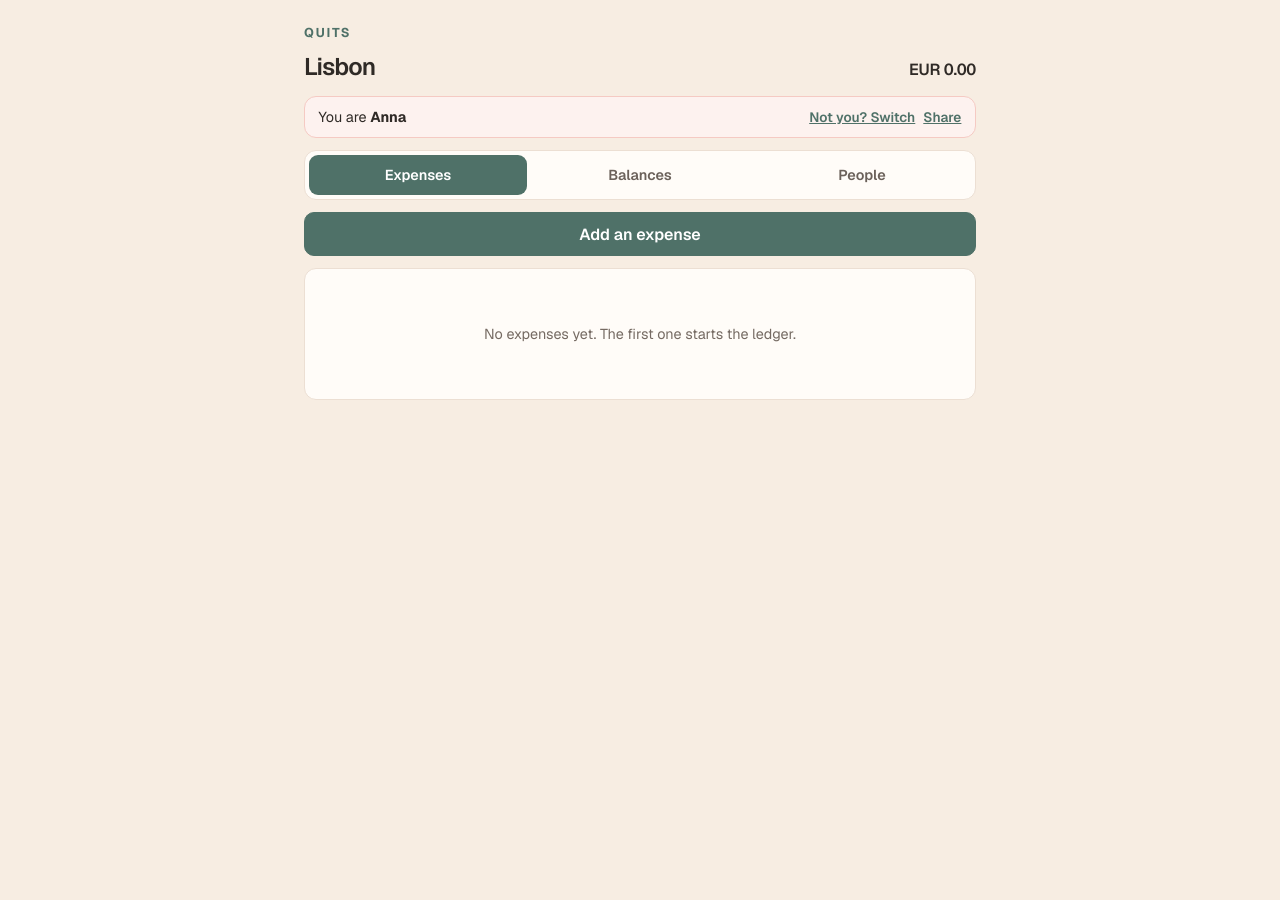
it: adding an expense — SPEC §7.10 to §7.14 › says how far over the exact amounts have gone
Click the button "Add an expense" at x=640, y=234, box [304,212,976,256]
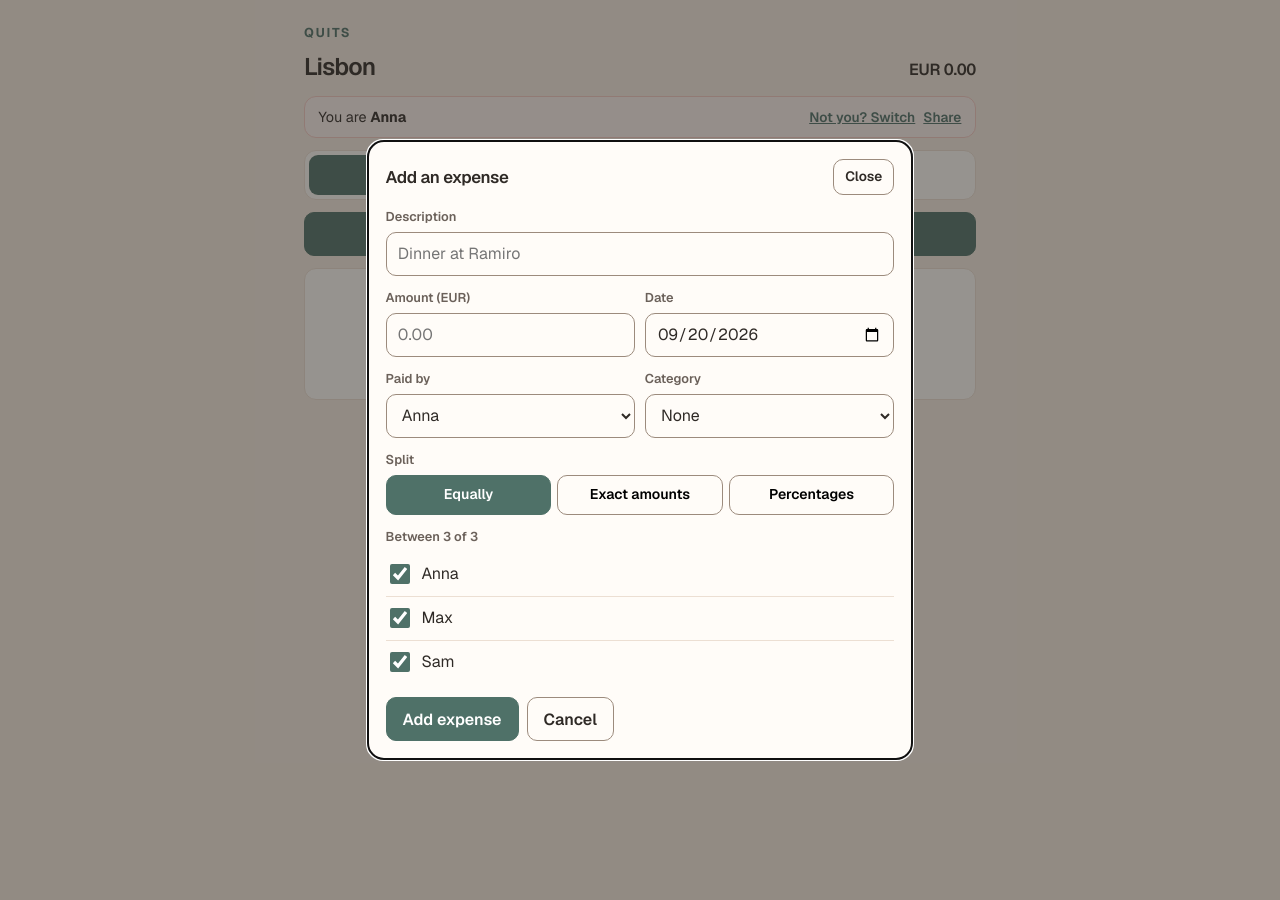
Type "10.00" into the field labelled "Amount (EUR)" at x=510, y=335, box [386,313,635,357]
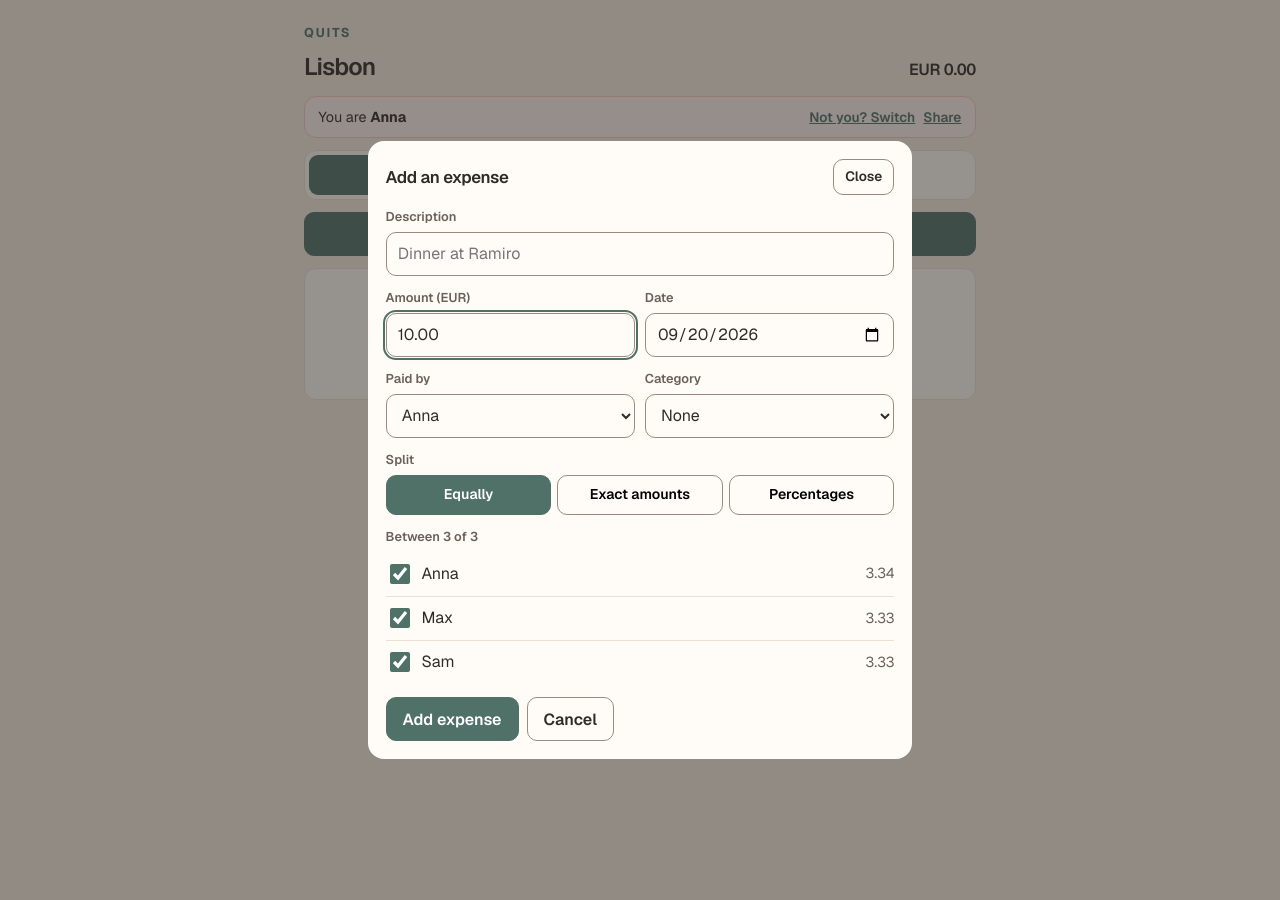
Click the button "Exact amounts" at x=640, y=495, box [557,475,723,515]
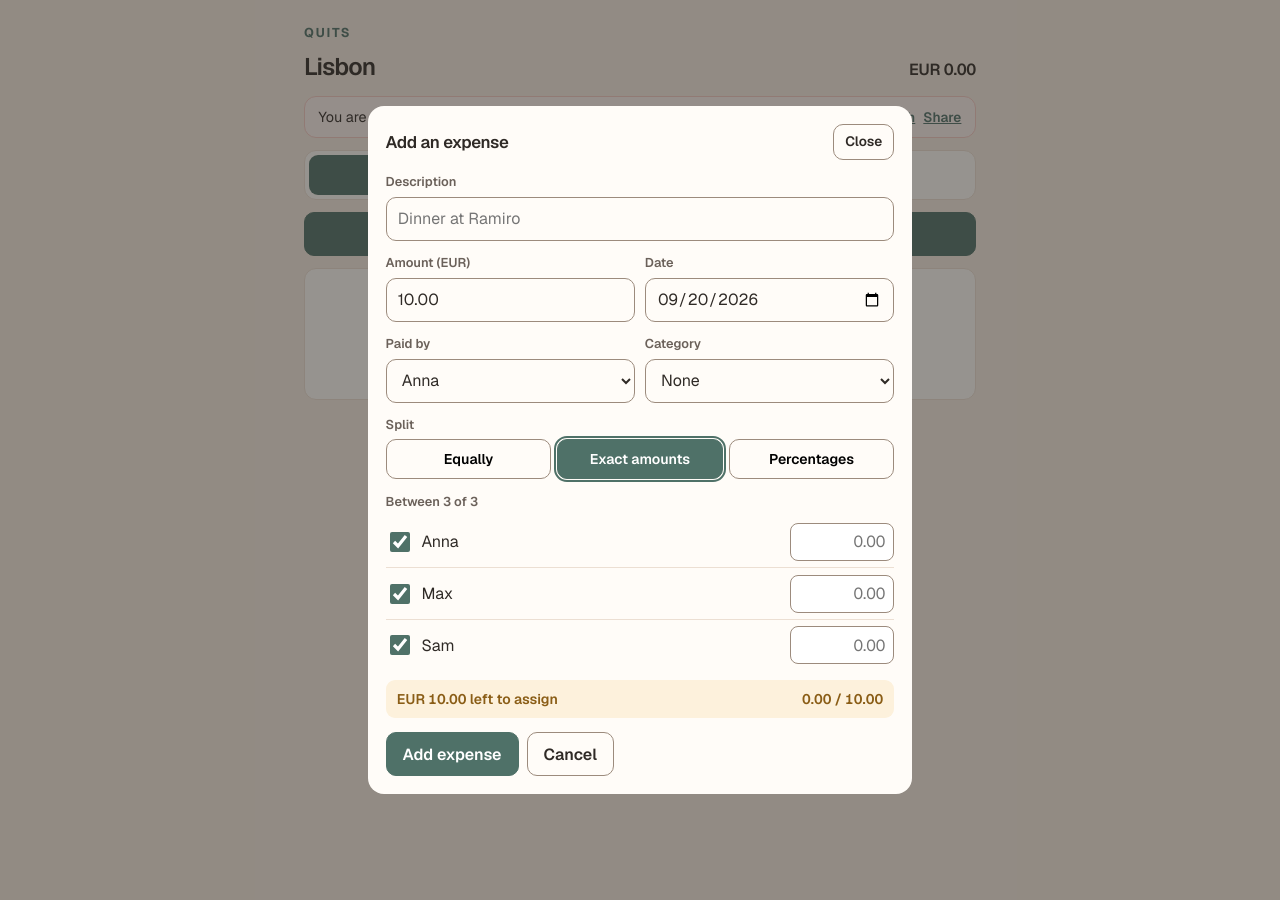
Type "12.00" into the field named "amount for anna" at x=842, y=542, box [790,523,894,561]
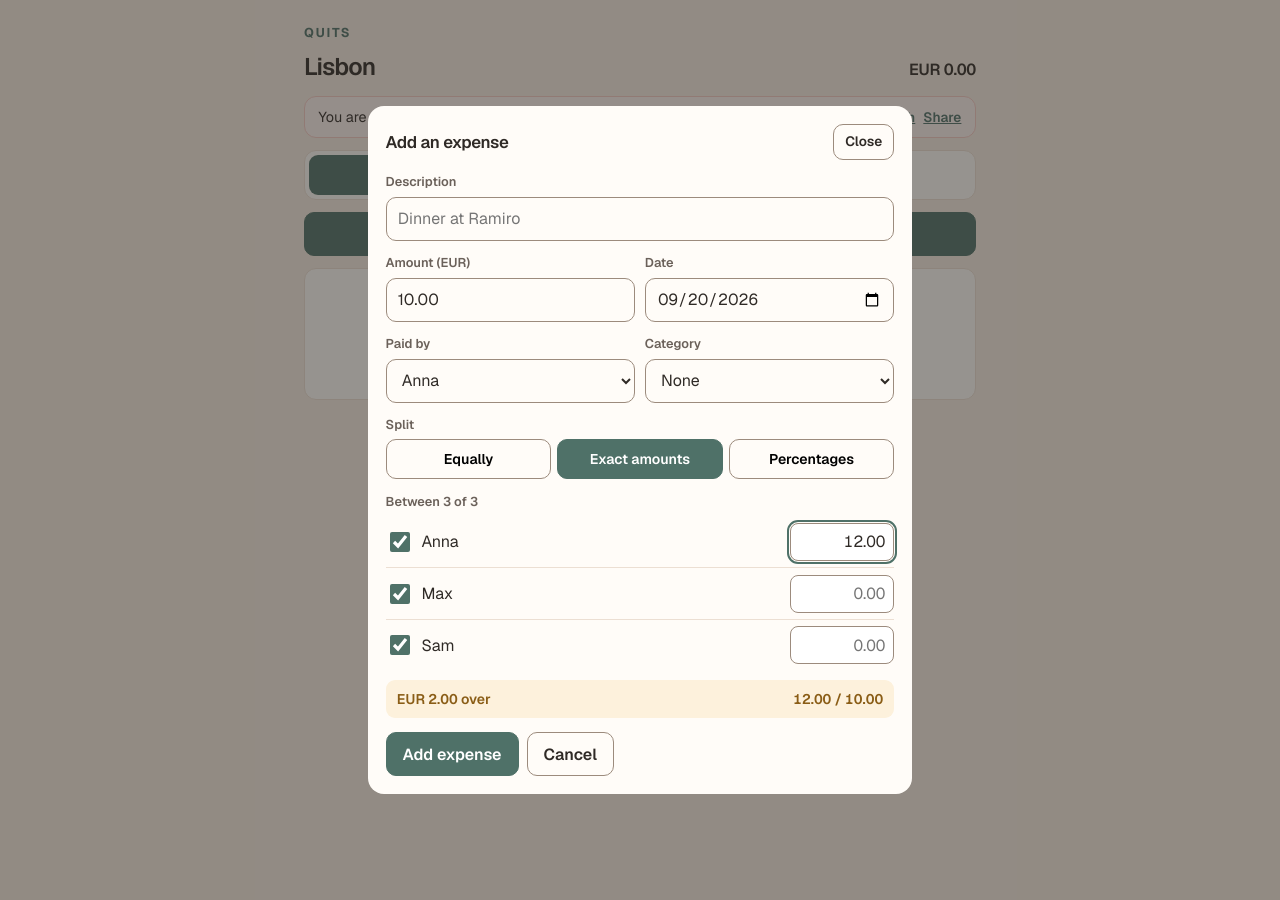
Check: the text "EUR 2.00 over" is shown, box [397,689,491,710]
